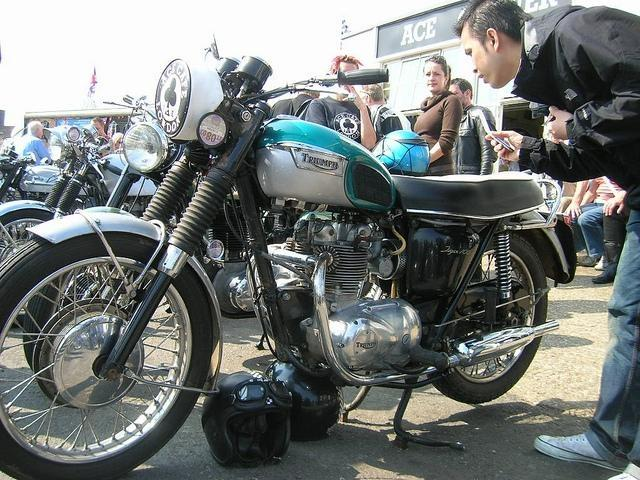motorcycle: (1, 34, 573, 472), (1, 126, 128, 266), (0, 144, 60, 204)
